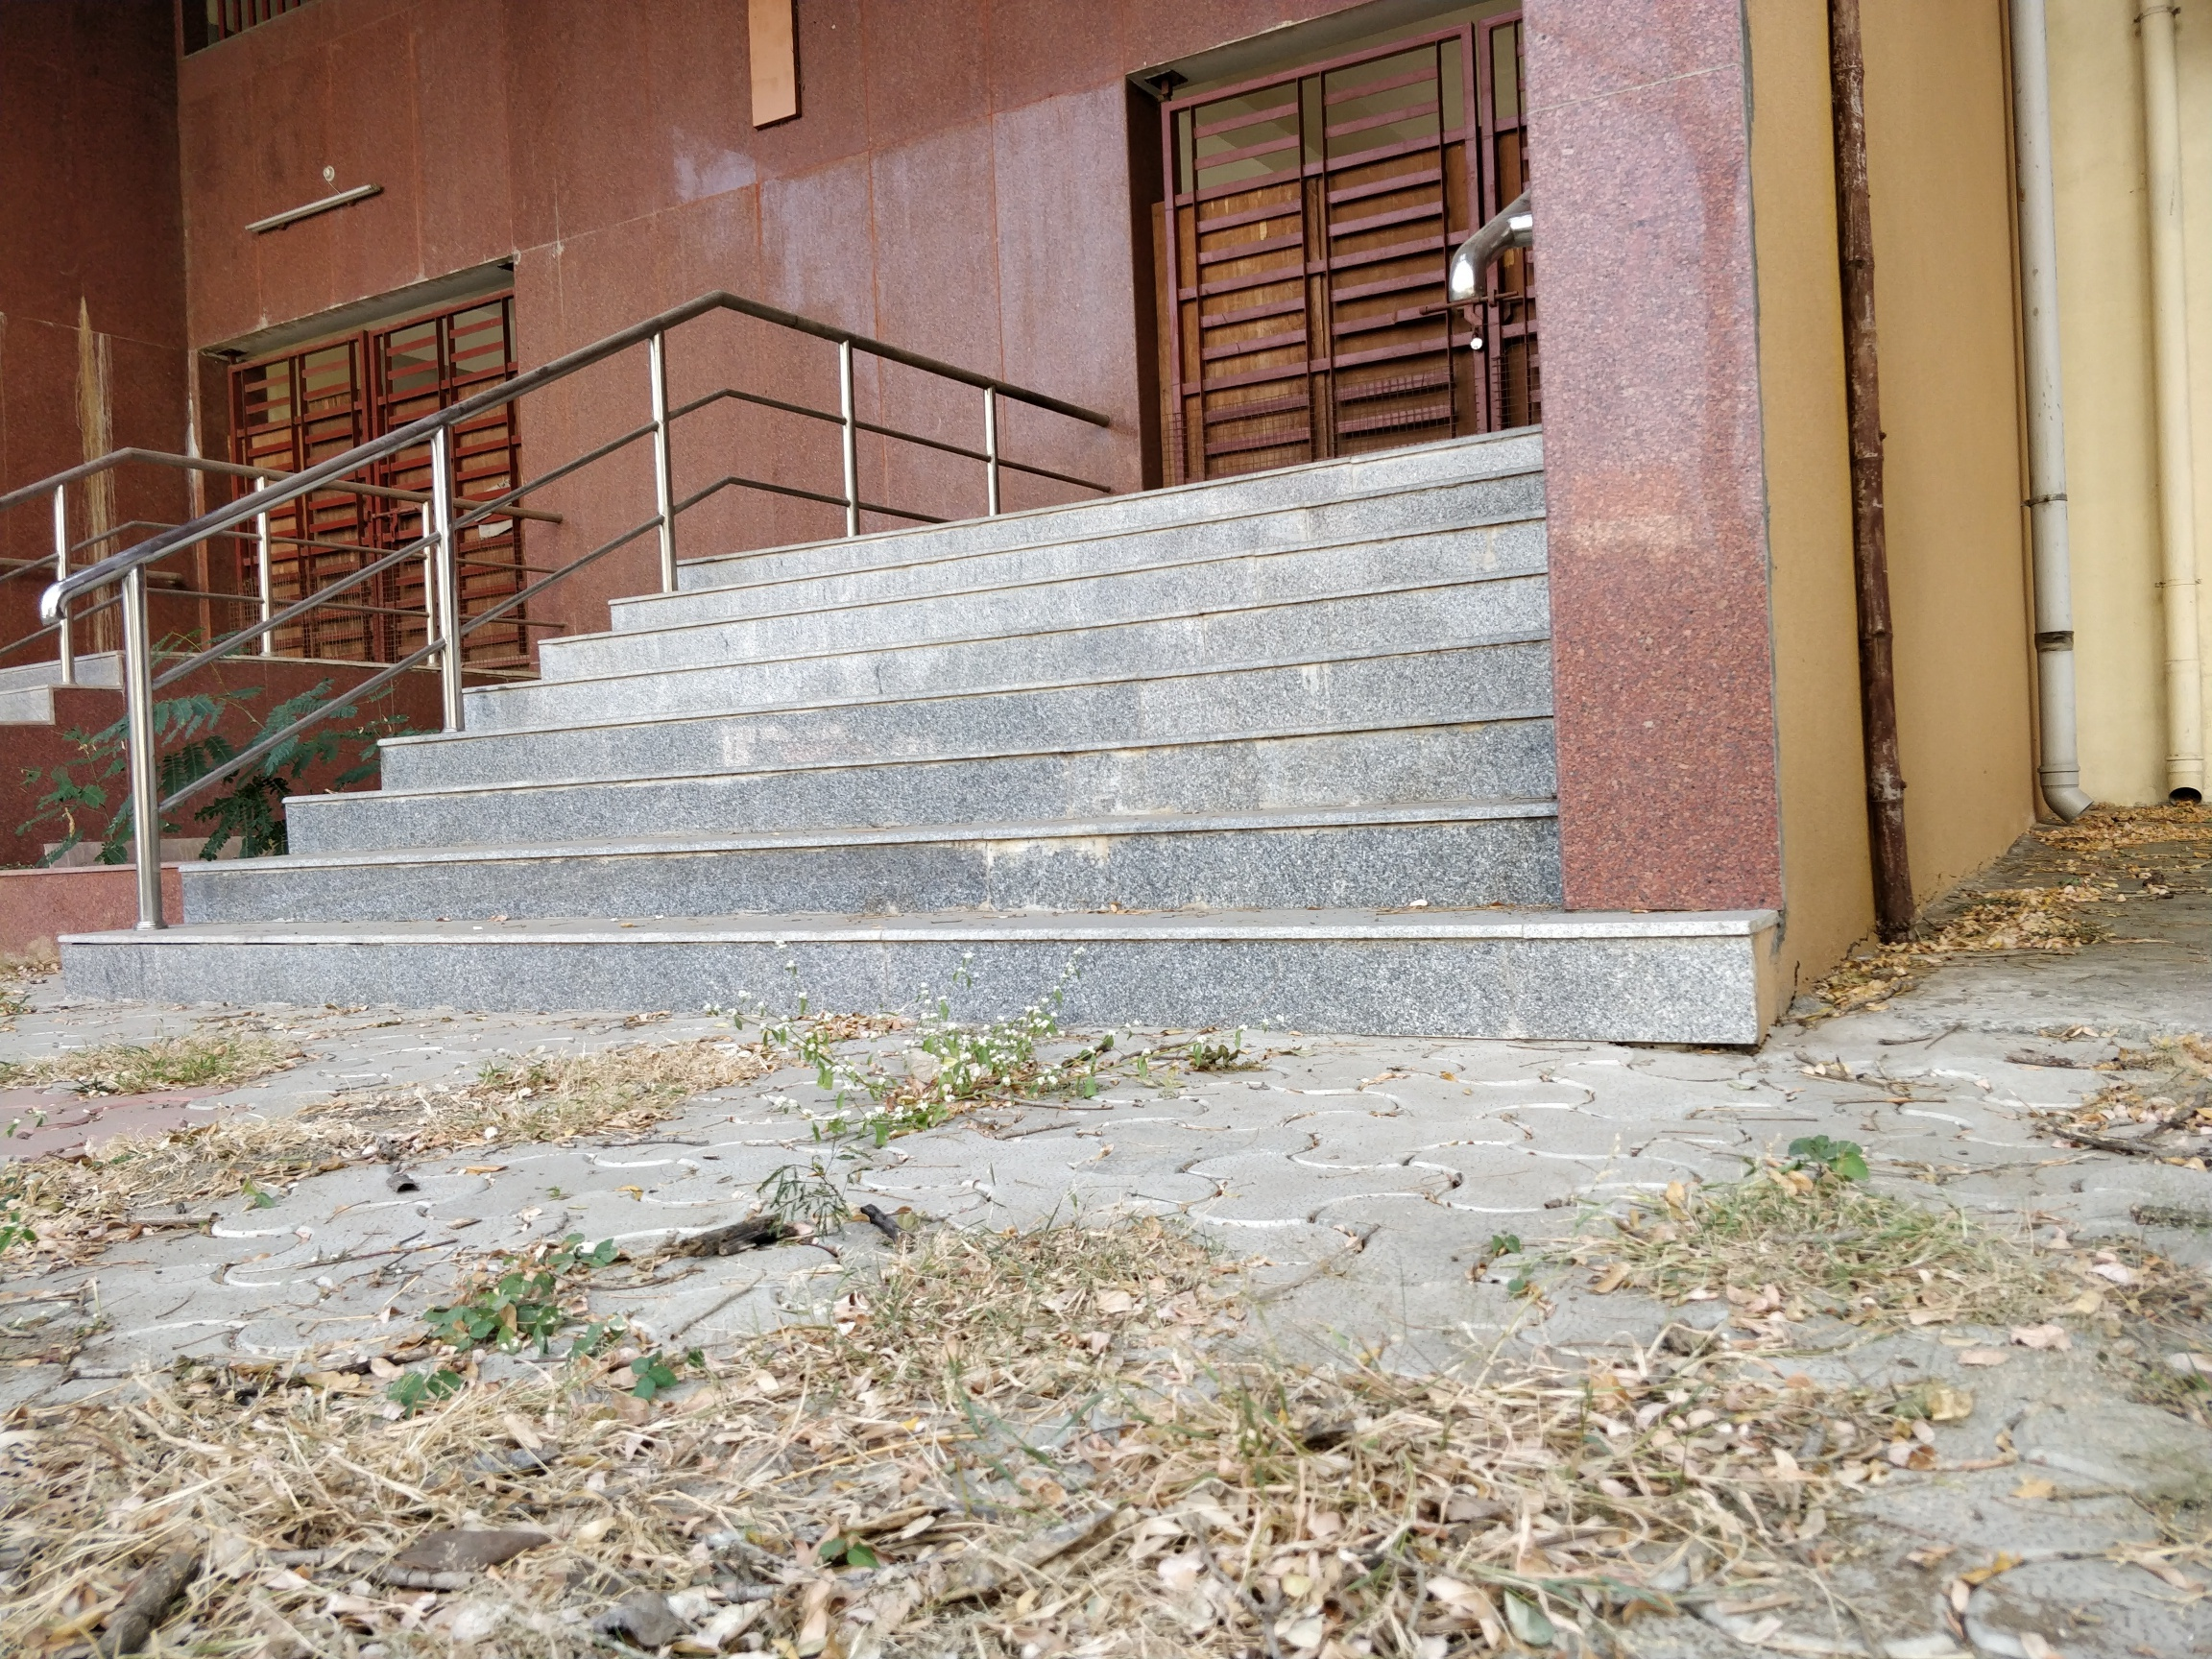stairs_up: (155, 422, 1541, 1023)
